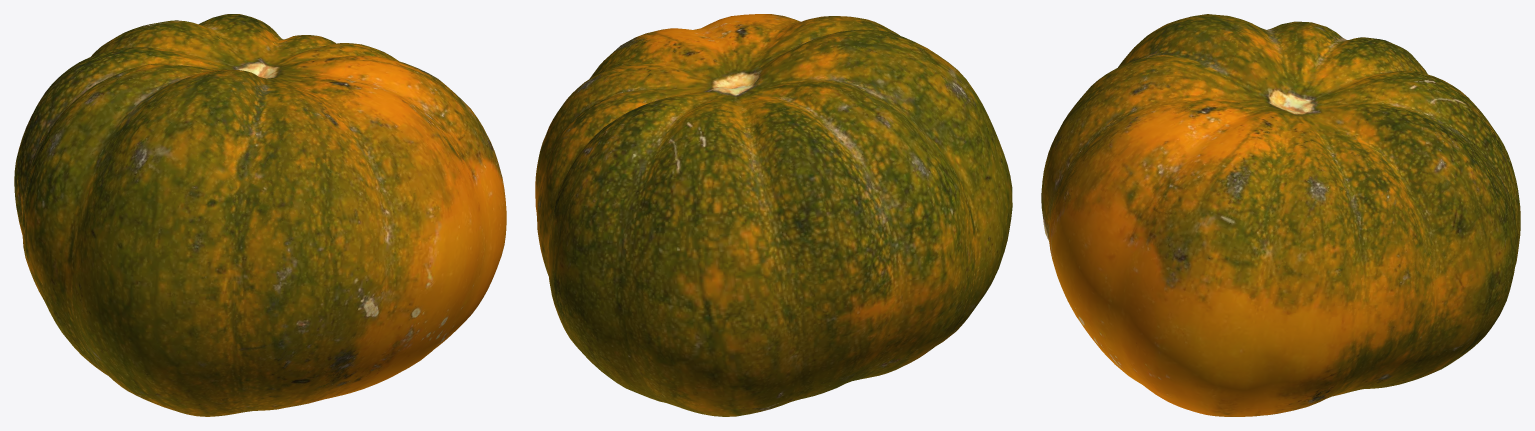
The model's file is pumpkin-5.glb.
The picture shows the model from 3 angles, left to right: view 1: azimuth 30°, elevation 25°; view 2: azimuth 150°, elevation 25°; view 3: azimuth 270°, elevation 25°; orthographic projection. The views are drawn at different scales.
Visible parts, largest first — view 1: Pumpkin; view 2: Pumpkin; view 3: Pumpkin.
Boxes of the visible parts, x1,y1,x2,y2 form: Pumpkin: [14, 14, 506, 416]; Pumpkin: [535, 14, 1012, 416]; Pumpkin: [1041, 14, 1520, 416].
Bounding box in the file's own units: 0.3317 × 0.251 × 0.3414.
Materials: 1 (1 with a texture image).
